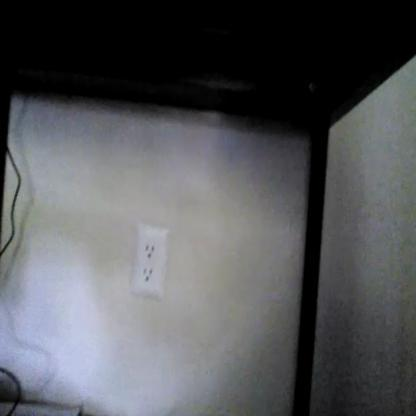OUTLET: (135, 222, 166, 298)
